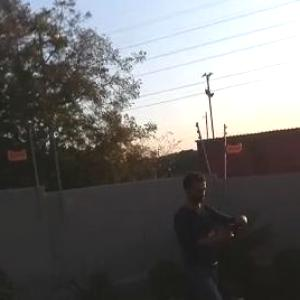follow: (167, 166, 257, 299)
